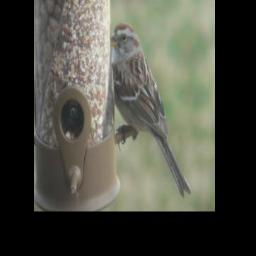Sparrow: (111, 21, 192, 198)
